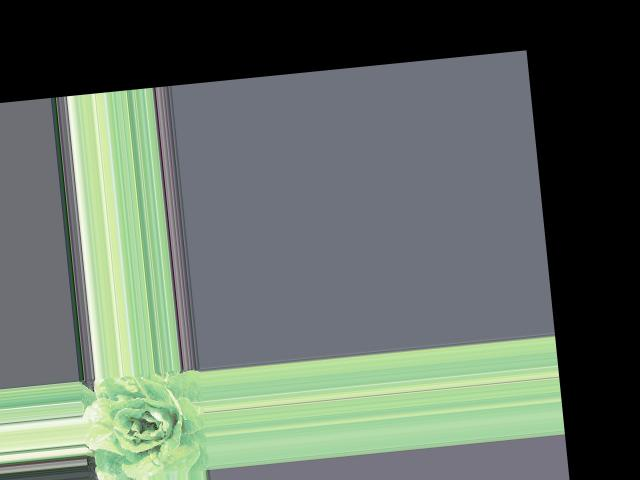lettuce: (84, 367, 207, 478)
